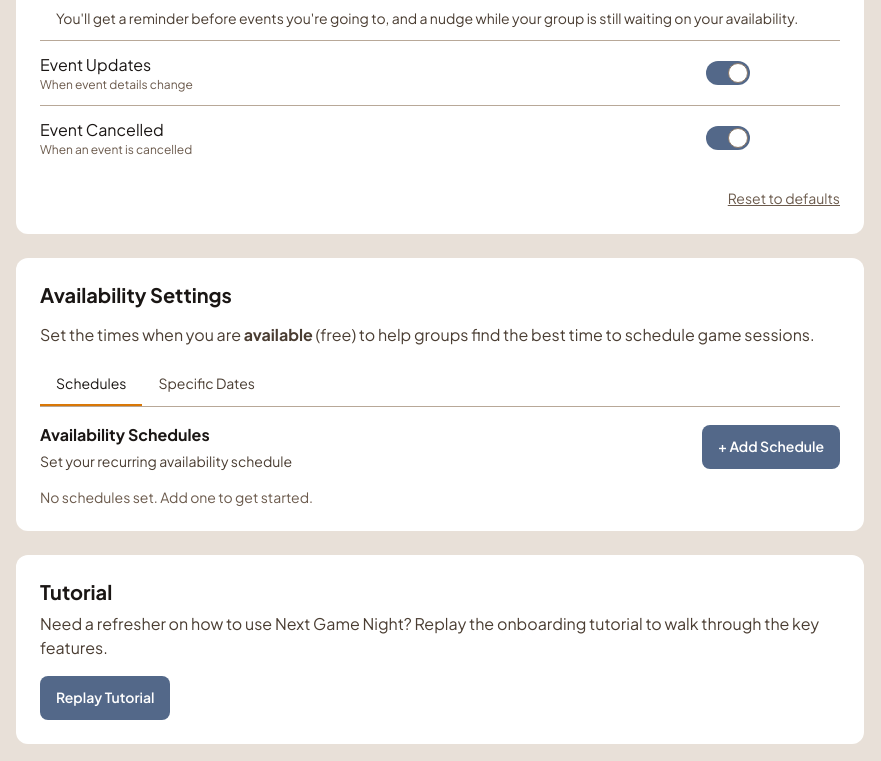
userProfile availability settings › swaps the visible panel when the Specific Dates tab is activated
(page scrolled)
expect the heading "Availability Schedules" is shown: met, box [40,424,210,444]
expect the heading "Specific Date Overrides" is not shown: met
Click the tab "Specific Dates" at (207, 384), box [142,362,271,406]
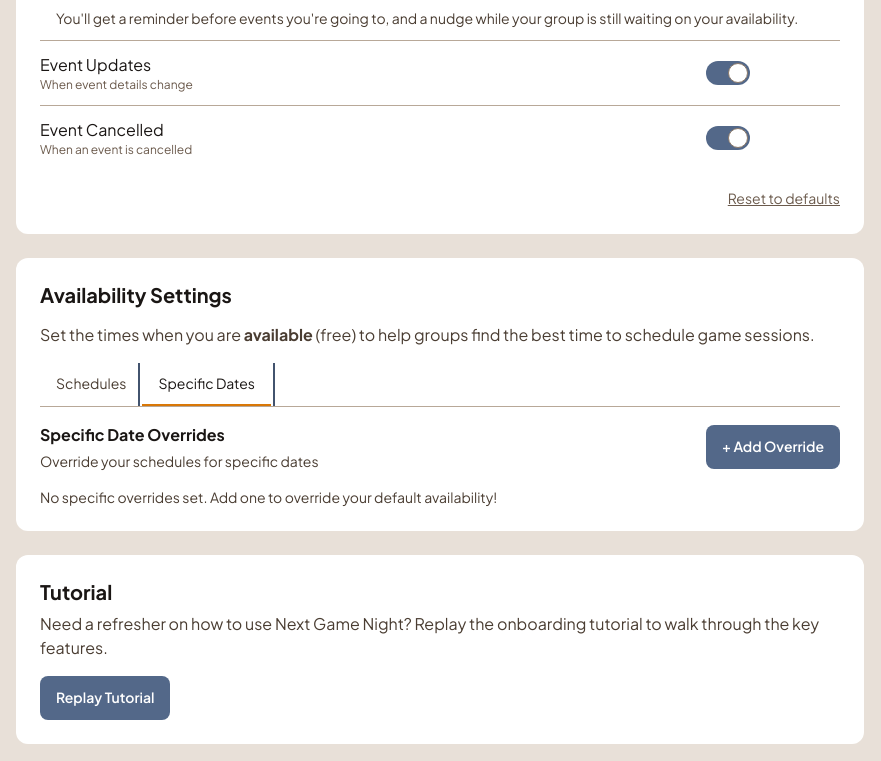
expect the heading "Specific Date Overrides" is shown: met, box [40,424,225,444]
expect the heading "Availability Schedules" is gone: met
